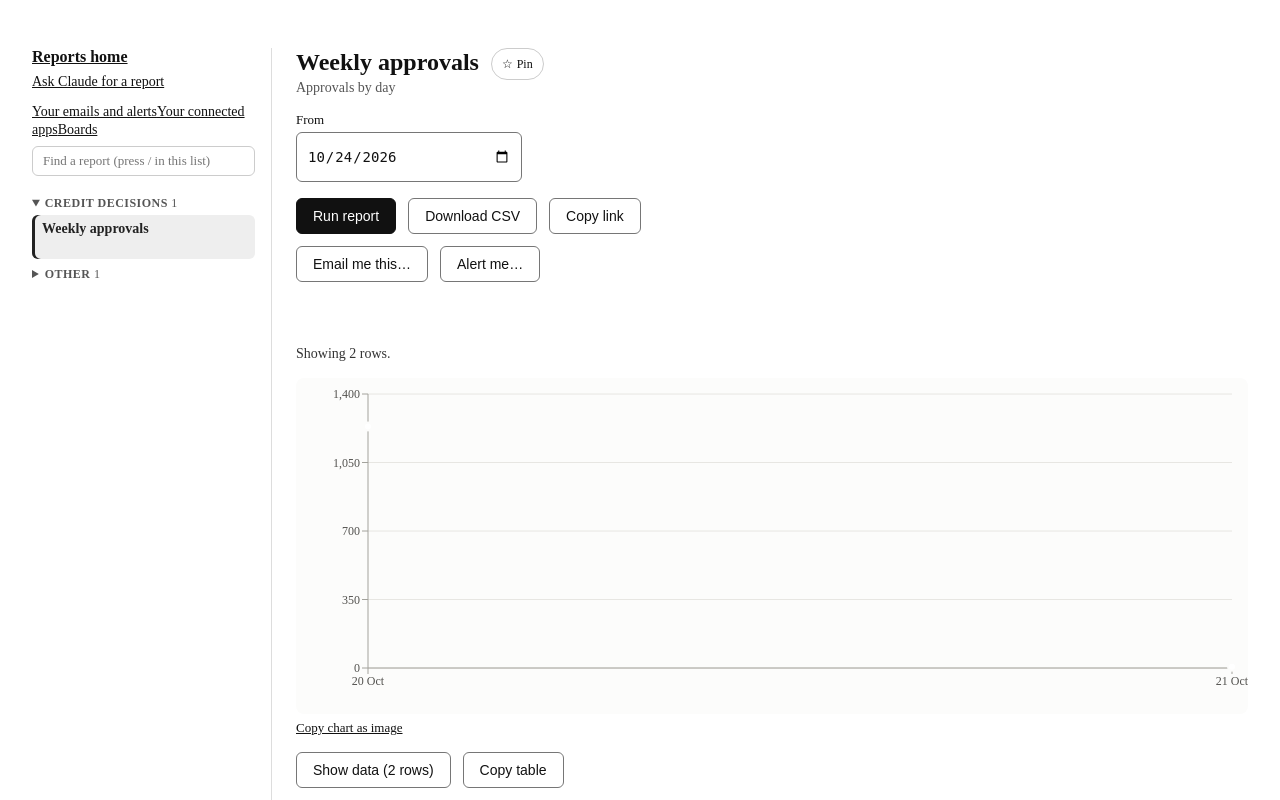
Test: ReportsView › clears the previous results when a re-run fails
The width and height of the screenshot is (1280, 800).
Click the button "Run report" at coordinates (346, 216), box [296,198,396,234]
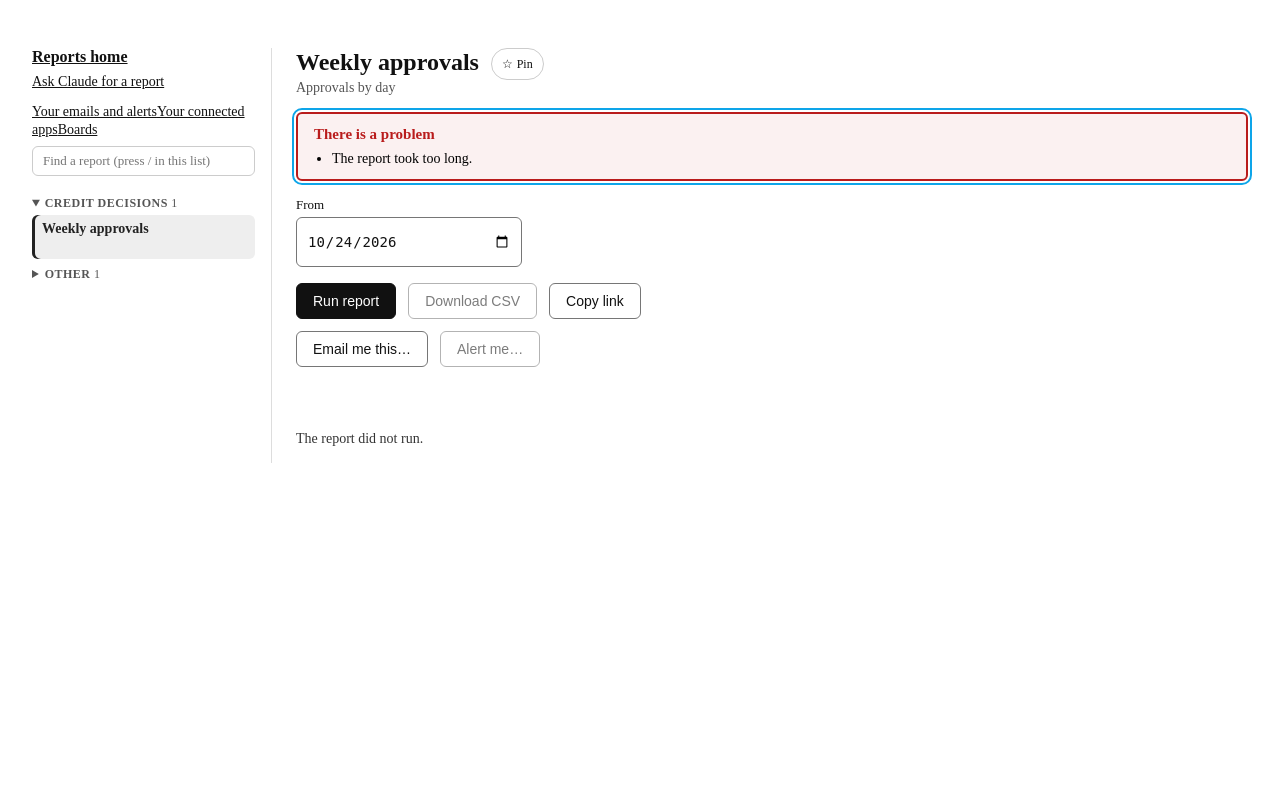
Result: the message "There is a problem The report took too long." is shown at [296,112,1248,181]
Result: the button "Download CSV" is disabled at [408,283,537,319]
